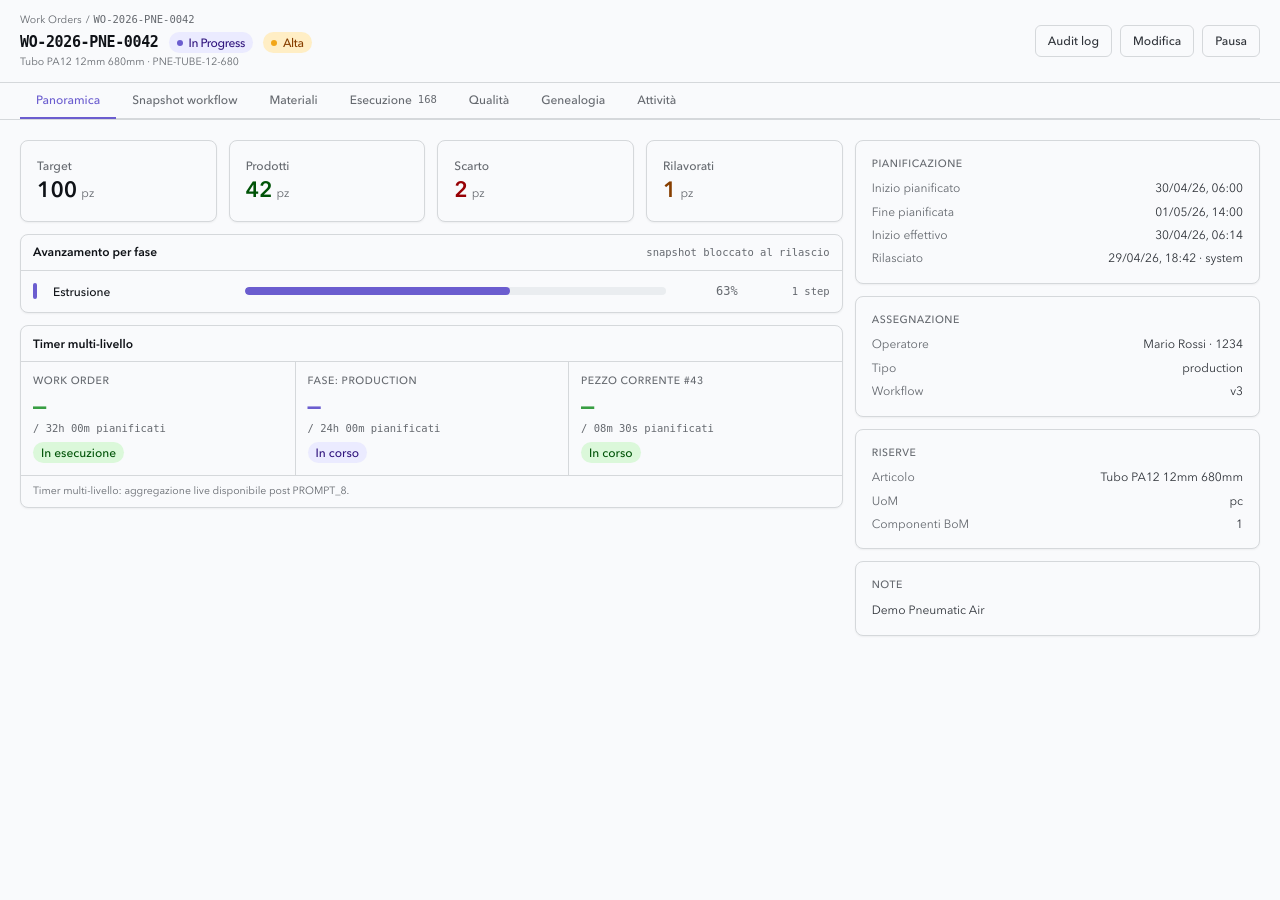
Test: WorkOrderDetailPage › Materiali tab renders BoM line components with required/consumed derived from progress
Expected: the text "WO-2026-PNE-0042" next to "Work Orders" is shown, [94,13,195,25]
Click the tab "Materiali" at coordinates (294, 101), box [253,83,334,118]
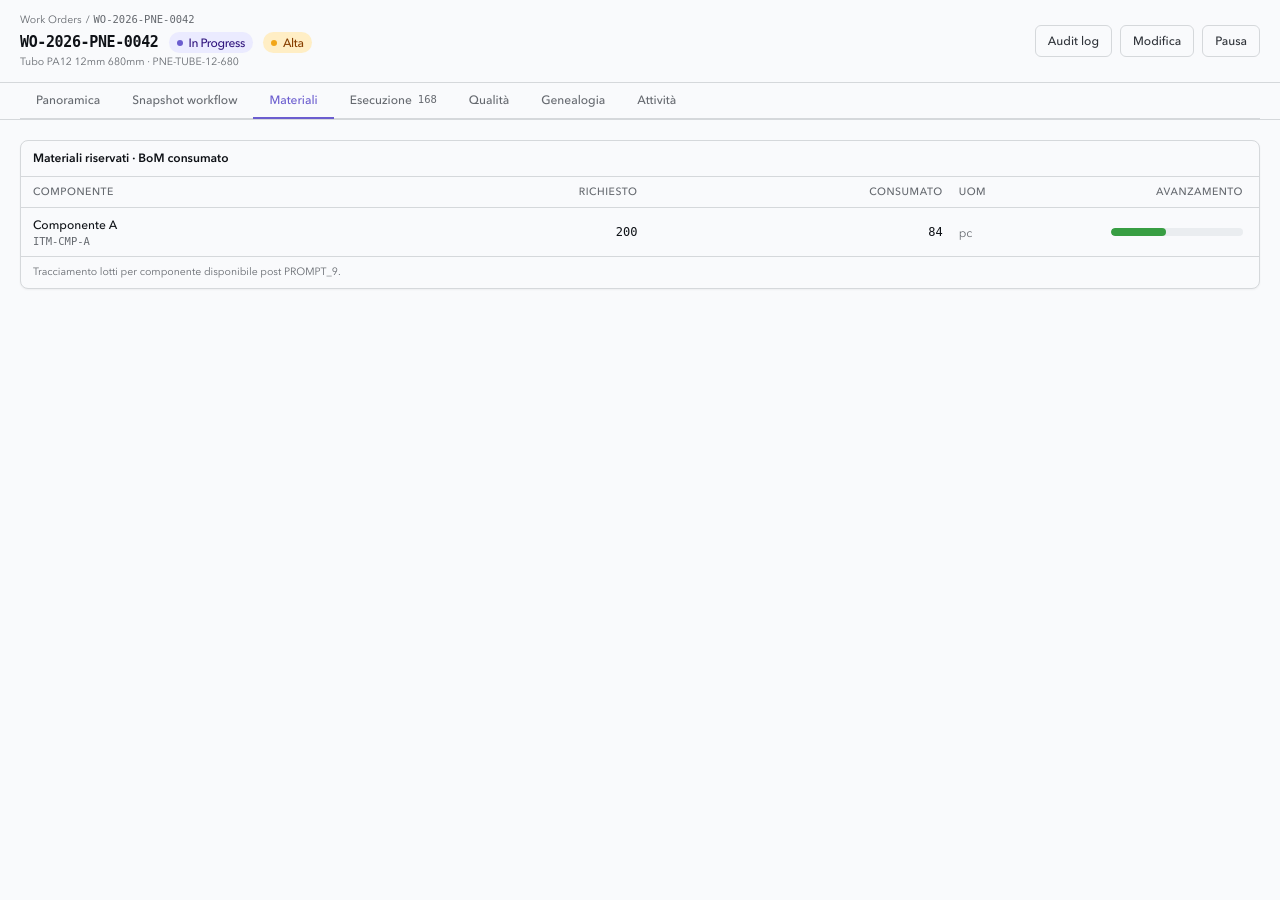
Expected: the text "Componente A" is shown, [33,217,117,232]
Expected: the text "200" is shown, [390,208,645,256]
Expected: the text "84" is shown, [645,208,951,256]
